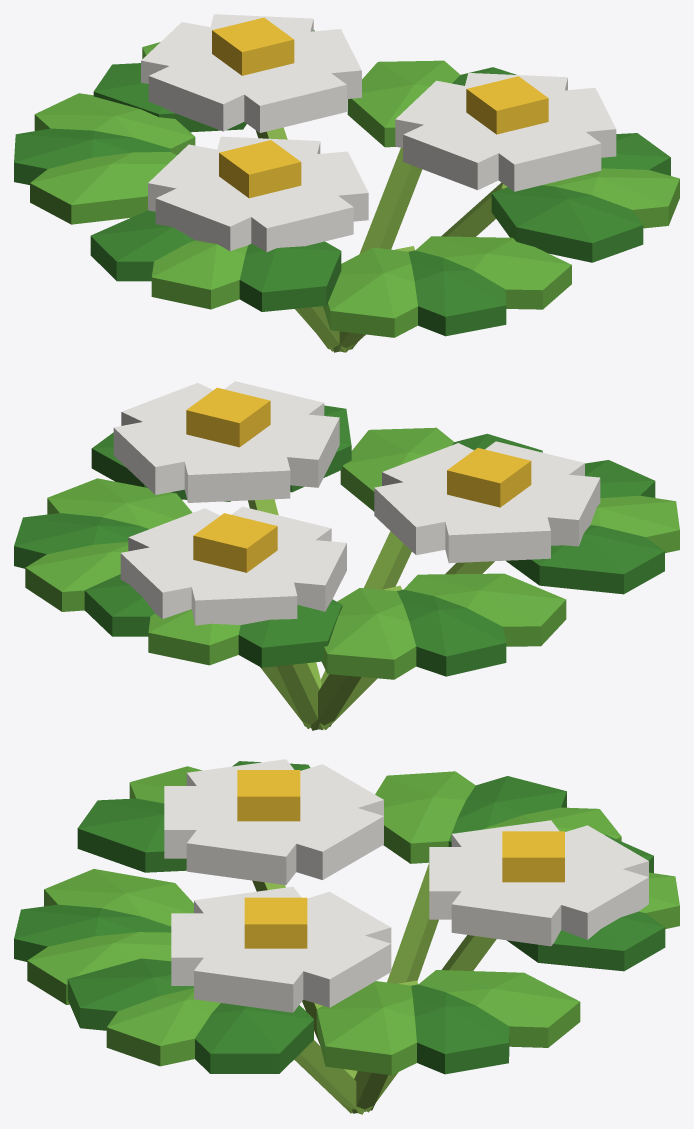
Rendered from strawberry_3.obj.
3 renders of one model, top to bottom at view 1: azimuth 30°, elevation 25°; view 2: azimuth 150°, elevation 25°; view 3: azimuth 270°, elevation 25°, orthographic. The views are drawn at different scales.
Visible parts, largest first — view 1: plant; view 2: plant; view 3: plant.
Part boxes in pixels (left/top/right/bottom): plant: left=14, top=14, right=679, bottom=352; plant: left=14, top=381, right=679, bottom=730; plant: left=14, top=759, right=679, bottom=1114.
Bounding box in the file's own units: 0.3728 × 0.1668 × 0.3821.
